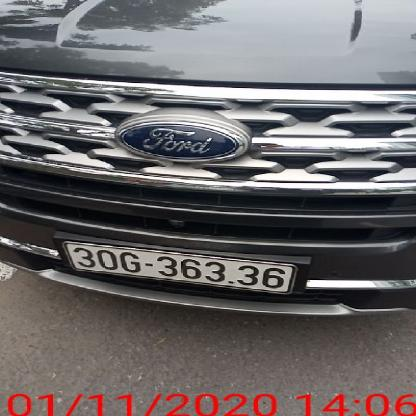biensoxe: (61, 222, 300, 304)
